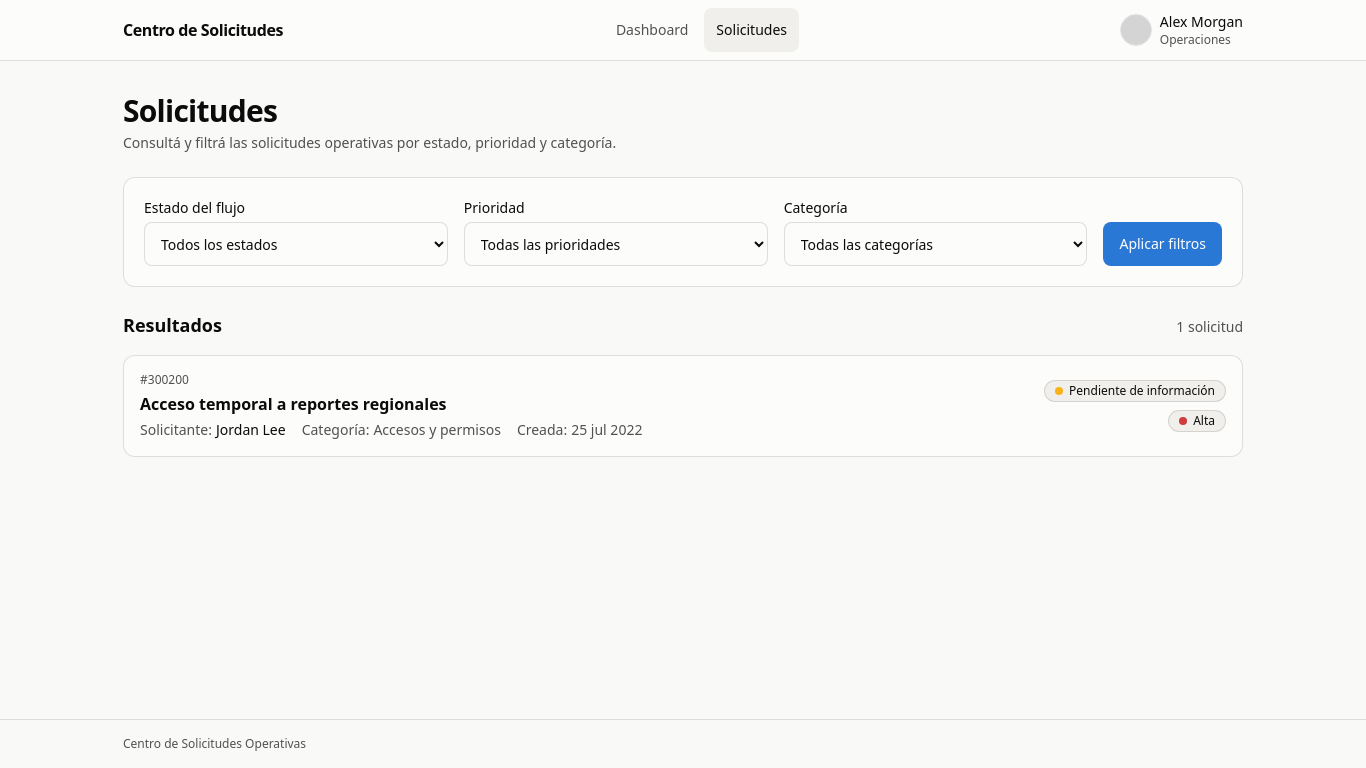
Test case: Request detail › opens from the list and shows every field including the resolution status
Click the link "Acceso temporal a reportes regionales": (293,404) [140, 393, 447, 415]
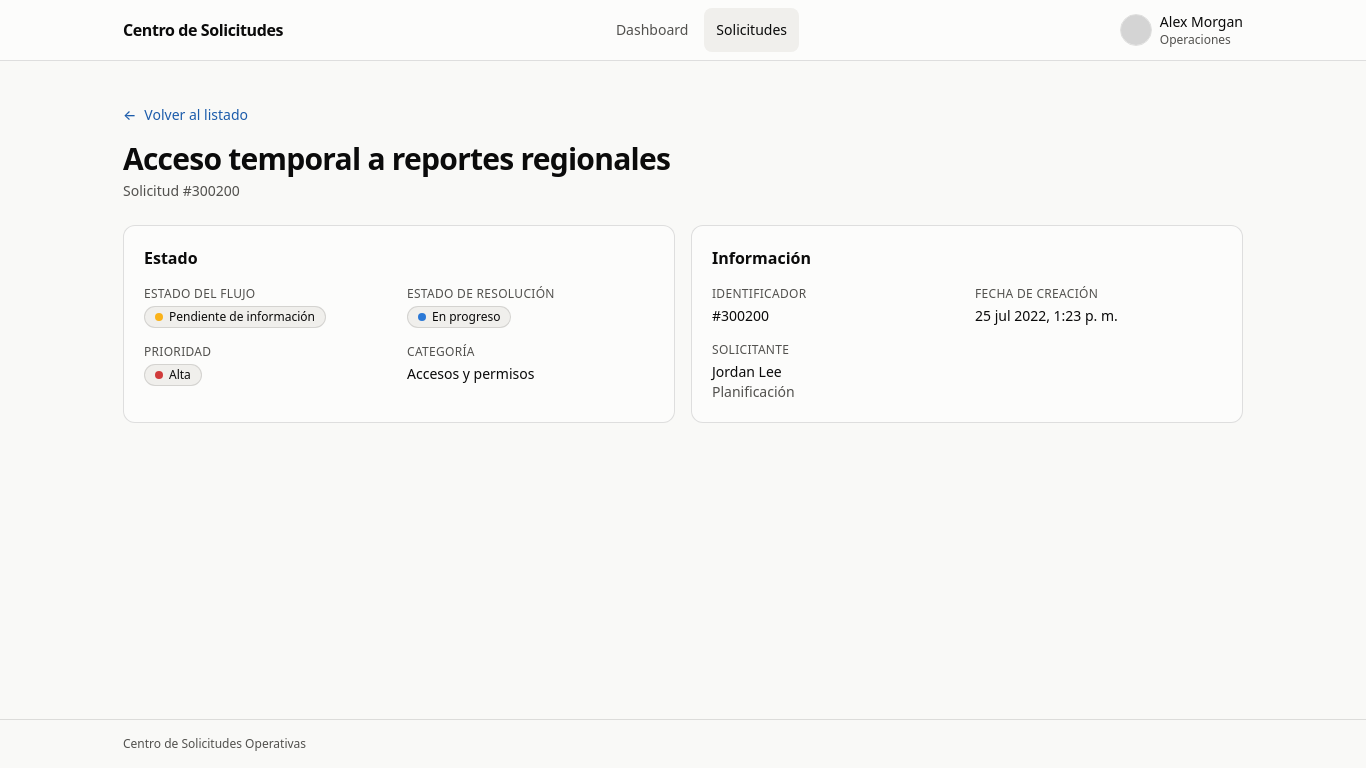
expect the heading "Acceso temporal a reportes regionales" is shown: met, box [123, 138, 670, 179]
expect the text "#300200" is shown: met, box [712, 306, 769, 325]
expect the text "Jordan Lee" is shown: met, box [712, 362, 782, 381]
